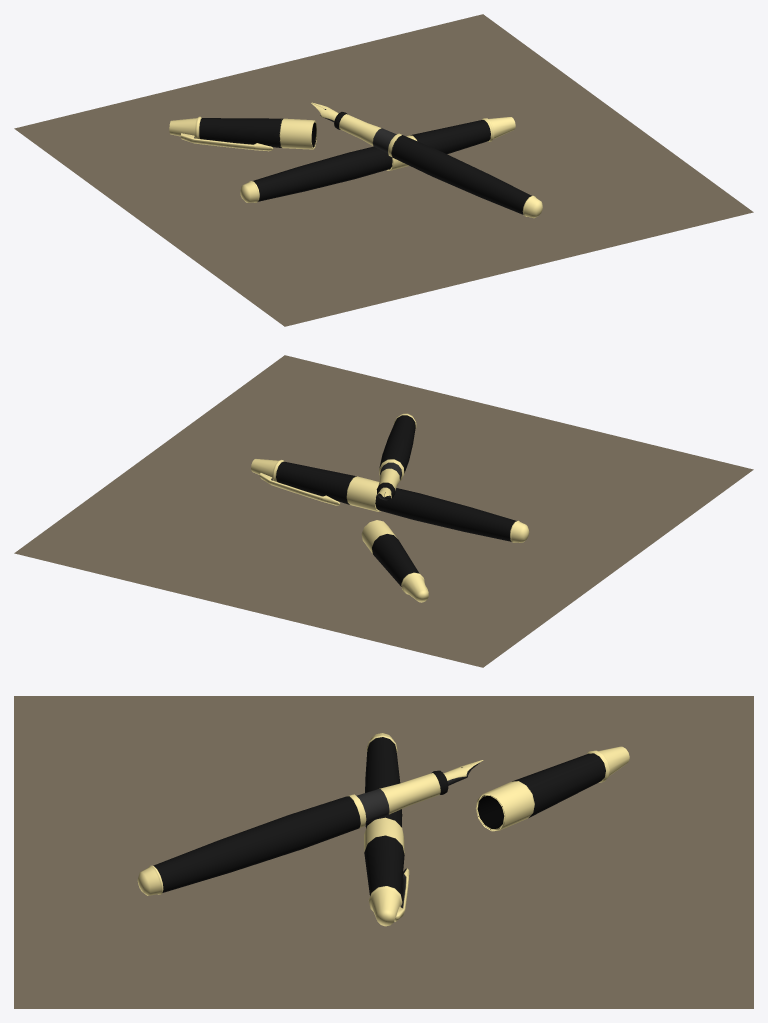
Rendered from fountain_pens.glb.
3 views of the same model, one above another, from view 1: azimuth 30°, elevation 25°; view 2: azimuth 150°, elevation 25°; view 3: azimuth 270°, elevation 25° (orthographic). The views are drawn at different scales.
Parts seen in each view (by area): view 1: ground, pen2_nib_low, pen2_cap_low, body_low, cap_low; view 2: ground, body_low, cap_low, pen2_cap_low, pen2_nib_low; view 3: ground, pen2_nib_low, pen2_cap_low, cap_low, body_low.
Part boxes in pixels (x1,y1,x2,y2): ground: (14, 14, 753, 326); pen2_nib_low: (311, 102, 542, 218); pen2_cap_low: (169, 116, 316, 151); body_low: (240, 146, 392, 202); cap_low: (387, 117, 515, 170); ground: (14, 355, 753, 667); body_low: (375, 488, 529, 542); cap_low: (251, 459, 380, 511); pen2_cap_low: (361, 520, 428, 602); pen2_nib_low: (376, 413, 416, 500); ground: (14, 696, 753, 1008); pen2_nib_low: (137, 760, 483, 895); pen2_cap_low: (476, 746, 629, 831); cap_low: (364, 817, 404, 926); body_low: (365, 733, 402, 828).
Bounding box in the file's own units: 35.87 × 3.7 × 35.87.
Materials: 2 (1 with a texture image).
